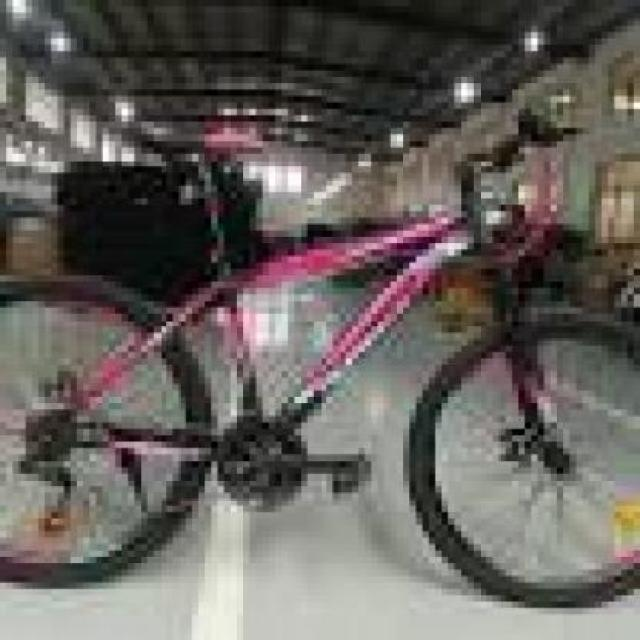bicycle: (1, 108, 640, 608)
